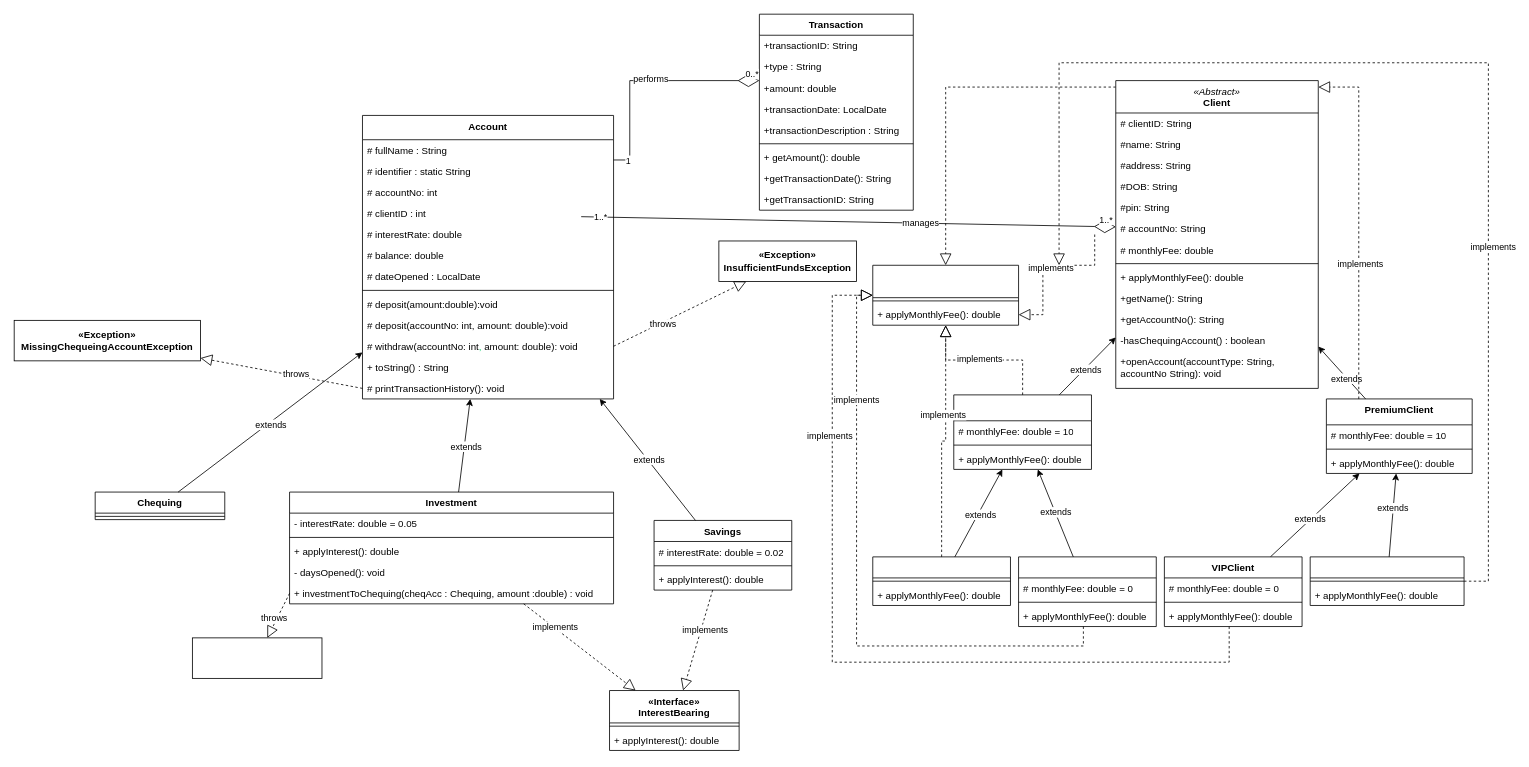
The diagram is 1529 pixels wide and 767 high, and some of its shapes have lost their labels. Here are the shapes that lost their labels. From the top down, the box of each, then its label:
(872, 264, 1019, 325): «Interface» Maintainable
(953, 394, 1091, 469): StandardClient
(872, 556, 1010, 605): IndividualClient
(1018, 556, 1156, 627): StudentClient
(1309, 556, 1464, 605): CorporateClient
(192, 637, 322, 678): «Exception» InvestmentLockException
